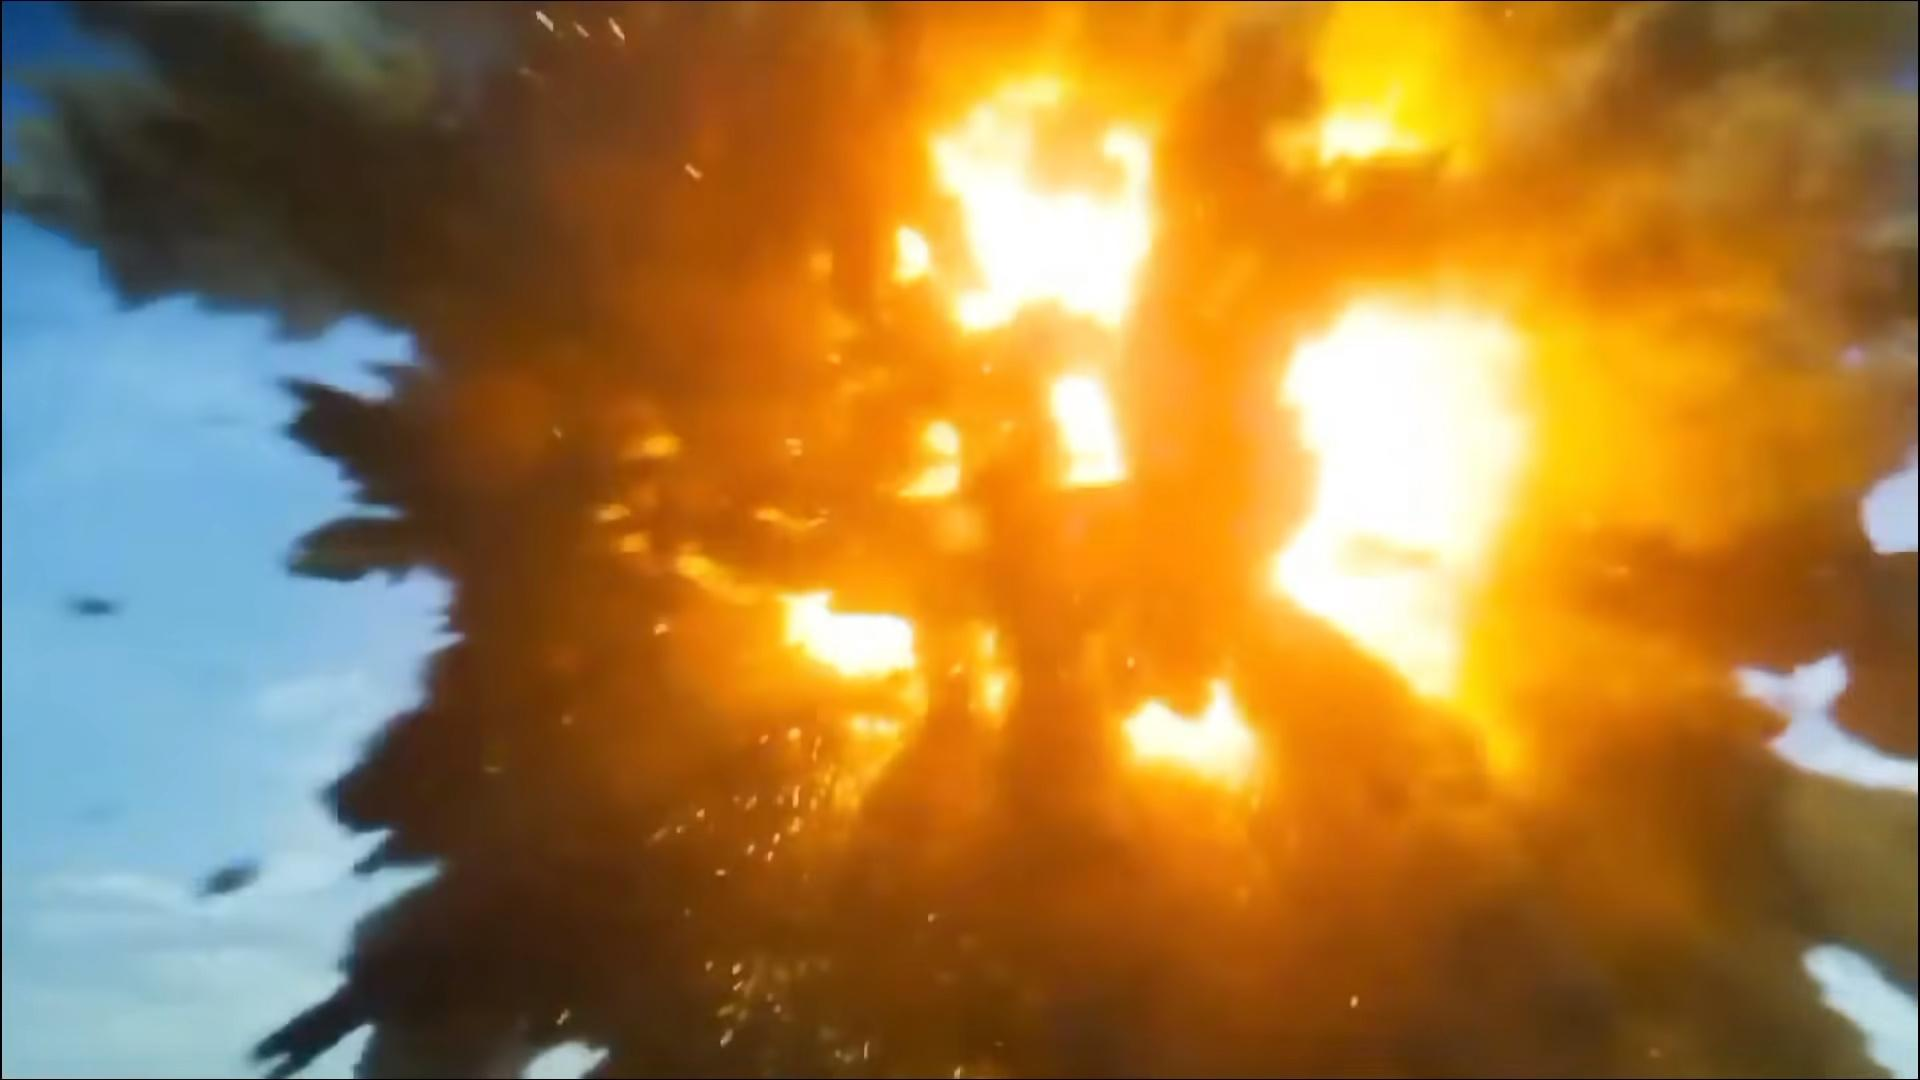fire: (448, 17, 1907, 1009)
